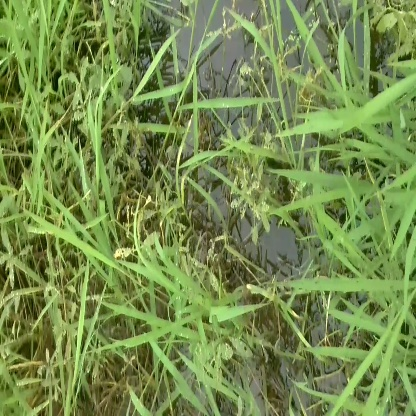grass: (279, 63, 411, 252)
